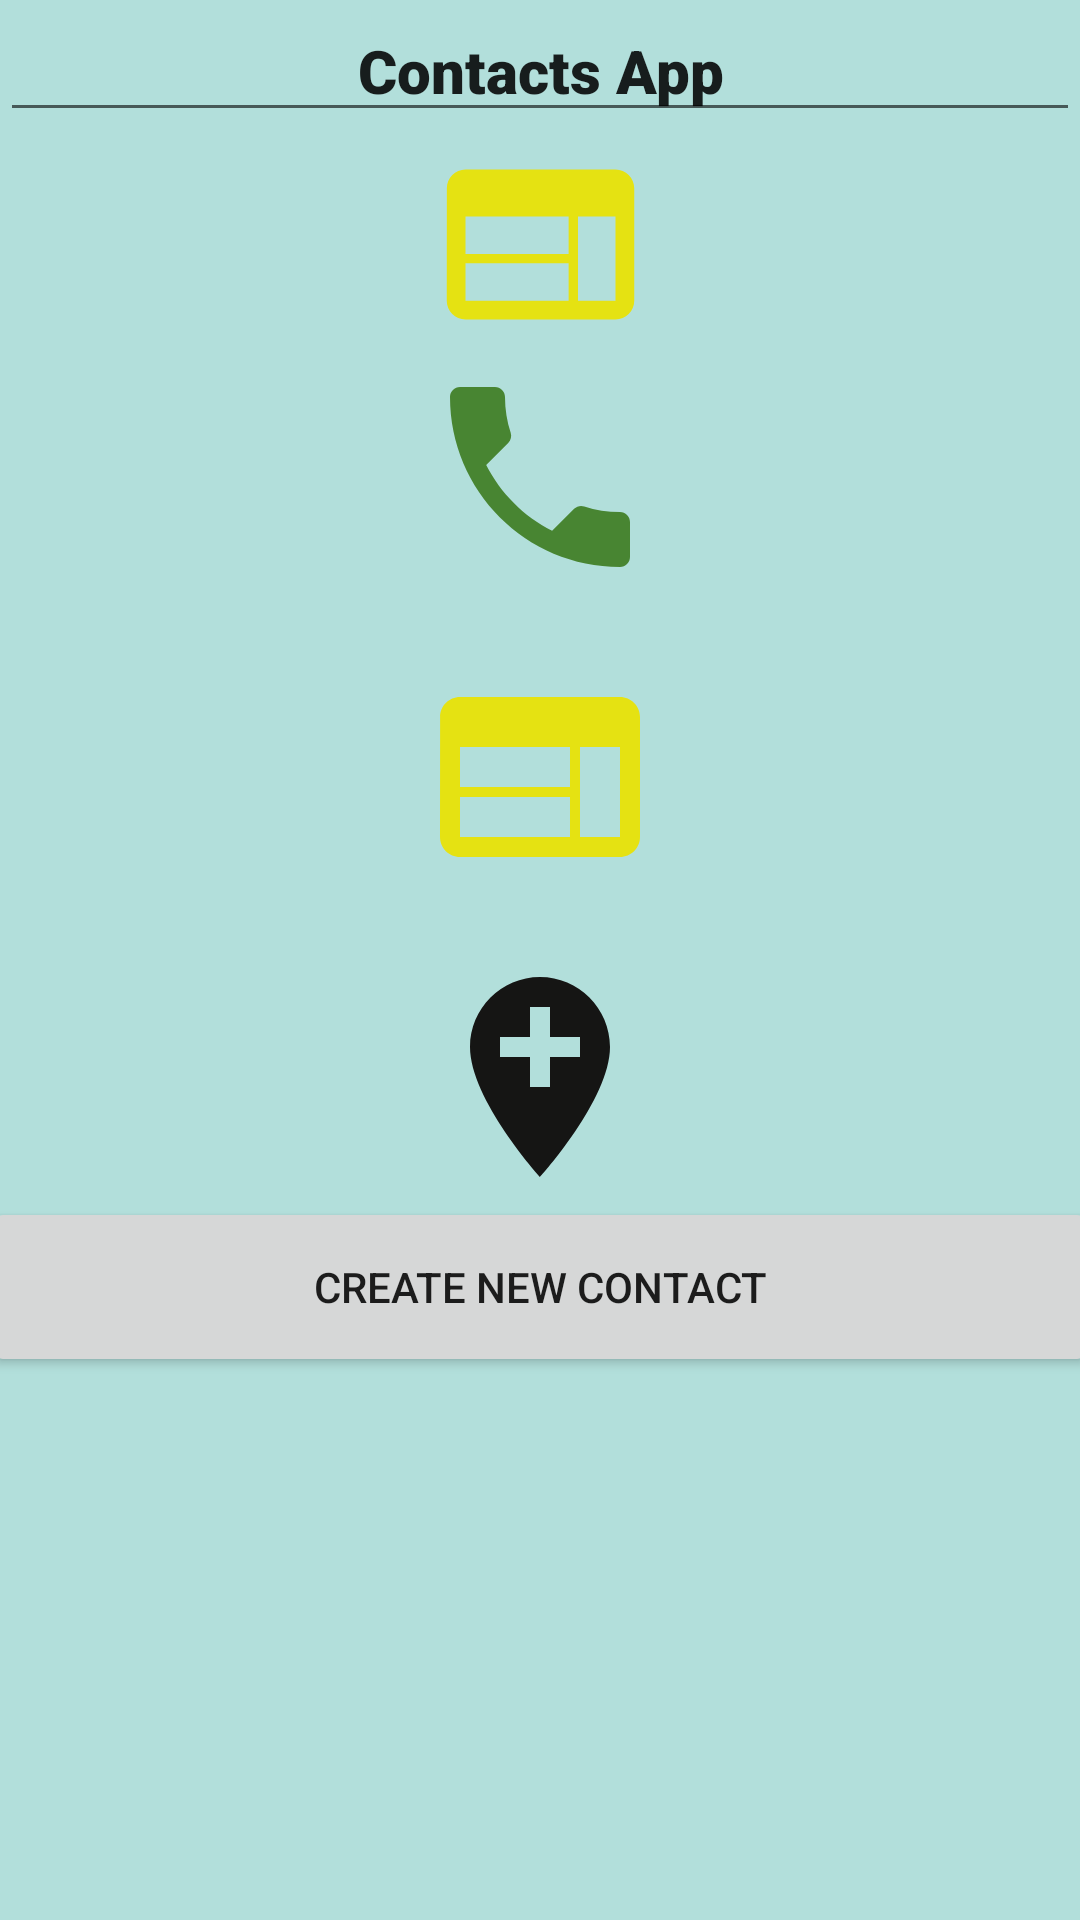

Point at icon controls on the screen. Image size 1080 × 1920, points as [x,y].
add location: [540,1077]
phone: [540,477]
web: [540,244], [540,777]
